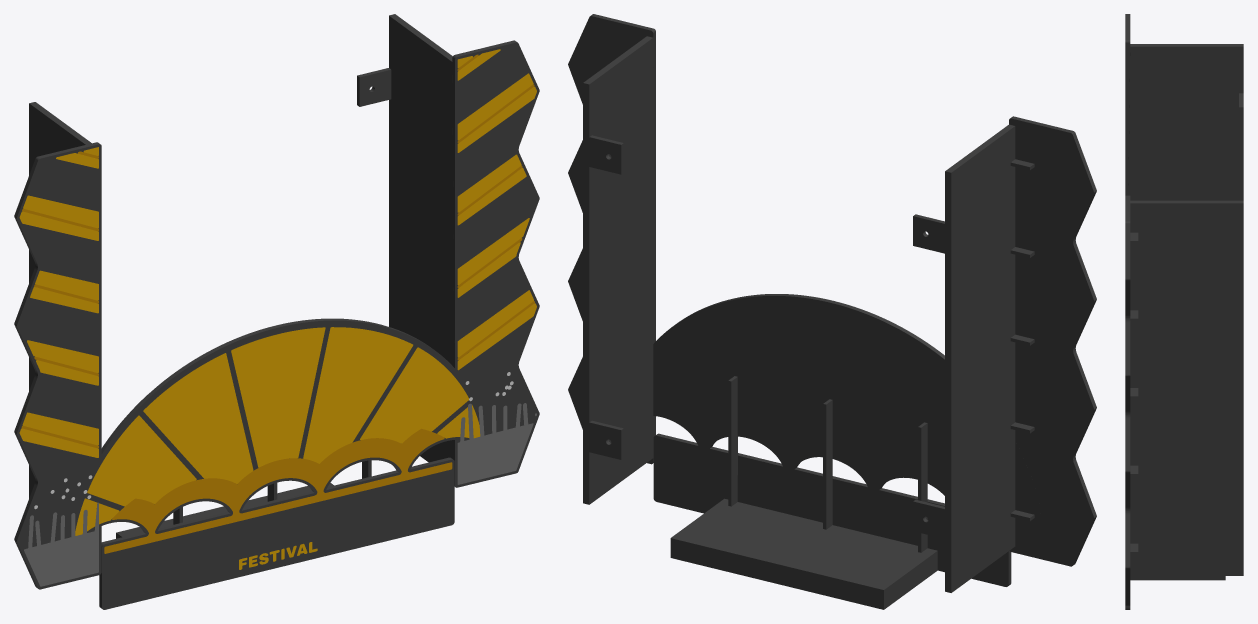
Rendered from parts.glb.
3 views of the same model, side by side, from view 1: azimuth 30°, elevation 25°; view 2: azimuth 150°, elevation 25°; view 3: azimuth 270°, elevation 25° (orthographic). The views are drawn at different scales.
Parts seen in each view (by area): view 1: wing_right__base, topper__orange, topper__base, wing_left__base, topper__ember, wing_right__orange, wing_left__orange, wing_right__grey, wing_left__grey, wing_right__ember, wing_left__ember; view 2: topper__base, wing_left__base, wing_right__base; view 3: wing_right__base, wing_left__base, topper__base.
Part boxes in pixels (x1,y1,x2,y2): wing_right__base: [357, 14, 539, 487]; topper__orange: [75, 327, 480, 569]; topper__base: [69, 318, 454, 609]; wing_left__base: [14, 102, 101, 589]; topper__ember: [104, 428, 452, 553]; wing_right__orange: [457, 49, 536, 370]; wing_left__orange: [19, 147, 98, 457]; wing_right__grey: [457, 403, 536, 484]; wing_left__grey: [24, 502, 98, 586]; wing_right__ember: [457, 54, 534, 360]; wing_left__ember: [21, 151, 98, 448]; topper__base: [653, 294, 1042, 609]; wing_left__base: [913, 116, 1096, 592]; wing_right__base: [568, 14, 655, 504]; wing_right__base: [1125, 195, 1243, 605]; wing_left__base: [1125, 14, 1243, 200]; topper__base: [1125, 576, 1225, 609].
Size of the model in its own units: 333 by 284 by 73.
